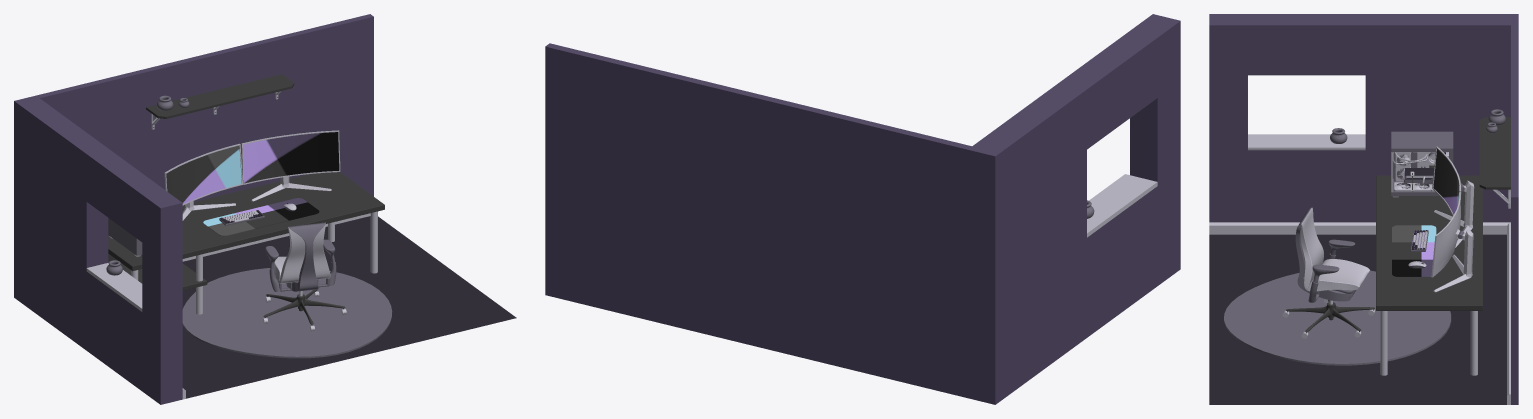
File: modern_gaming_setup.glb
3 views of the same model, side by side, from view 1: azimuth 30°, elevation 25°; view 2: azimuth 150°, elevation 25°; view 3: azimuth 270°, elevation 25° (orthographic). The views are drawn at different scales.
Visible parts, largest first — view 1: Object_3, Object_2, Object_4; view 2: Object_3, Object_2, Object_4; view 3: Object_2, Object_3, Object_4.
Part boxes in pixels (x1,y1,x2,y2): Object_3: [14, 14, 516, 404]; Object_2: [17, 95, 392, 404]; Object_4: [86, 74, 377, 314]; Object_3: [545, 14, 1180, 404]; Object_2: [1000, 21, 1180, 401]; Object_4: [1087, 174, 1157, 237]; Object_2: [1209, 25, 1510, 404]; Object_3: [1209, 14, 1518, 404]; Object_4: [1248, 117, 1510, 375].
Bounding box in the file's own units: 28.44 × 15 × 20.28.
1 material, 1 textured.
